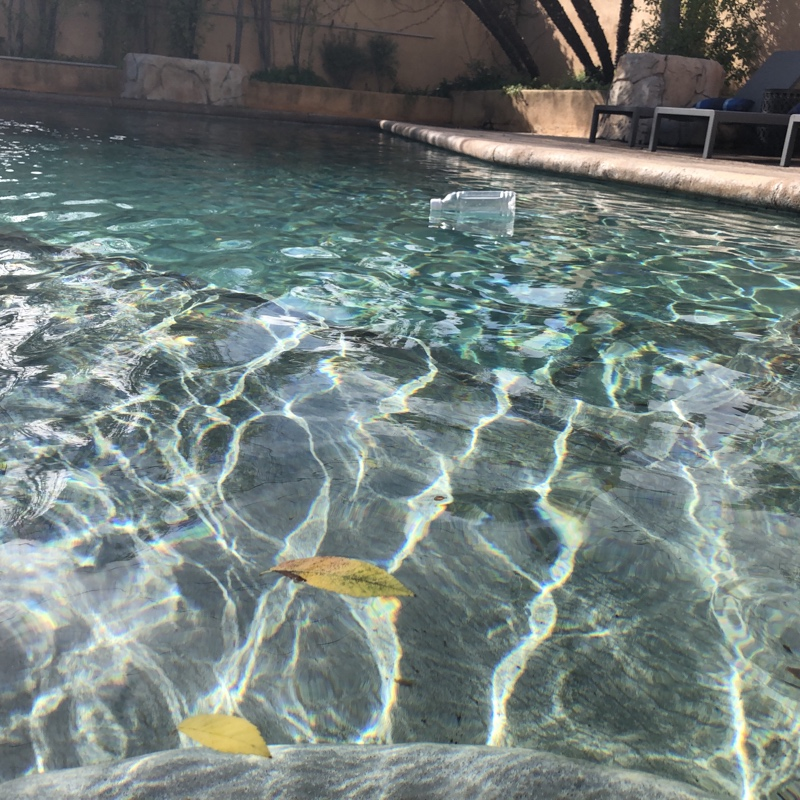Plastic Bottle: (426, 184, 519, 227)
